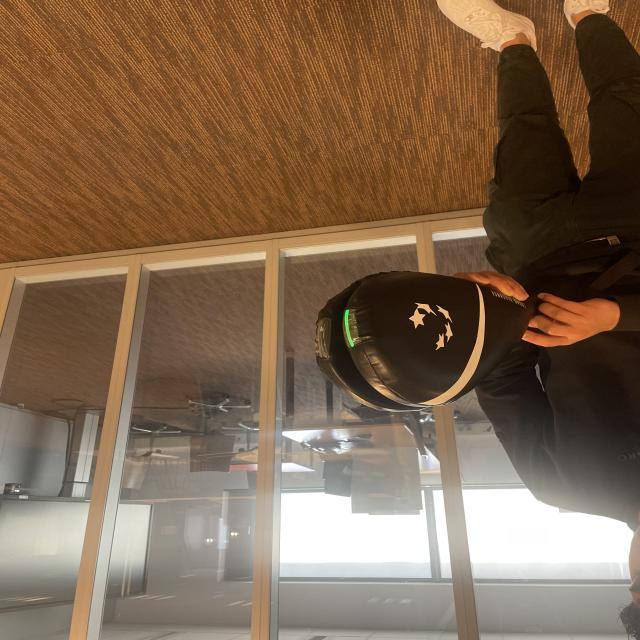paddle: (310, 271, 490, 410)
trigger: (339, 306, 363, 354)
